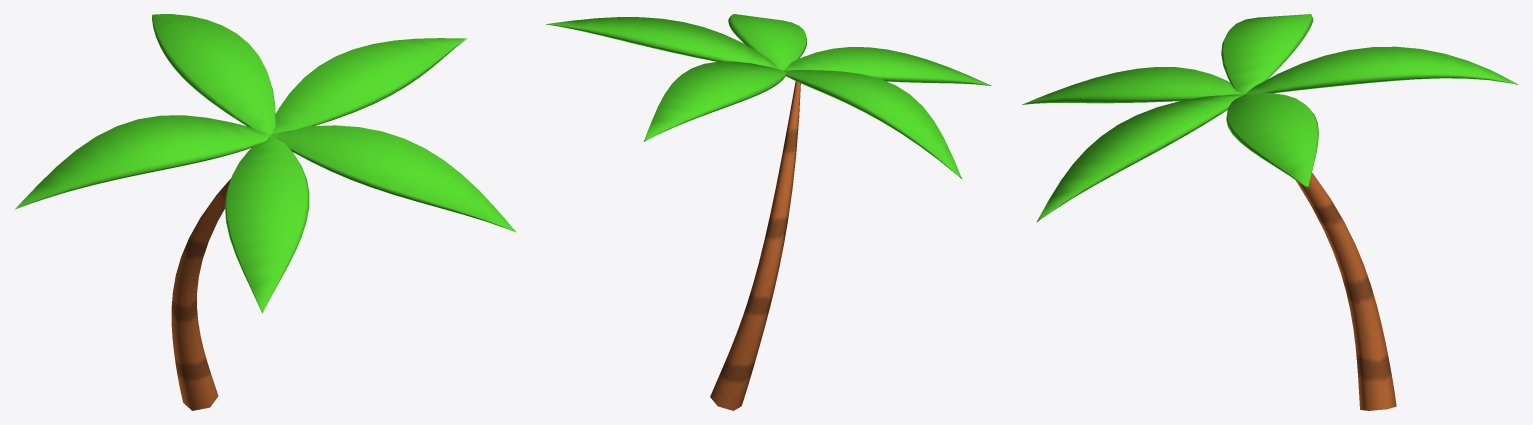
The model's file is level4tree.fbx.
3 views of the same model, side by side, from view 1: azimuth 30°, elevation 25°; view 2: azimuth 150°, elevation 25°; view 3: azimuth 270°, elevation 25° (orthographic). The views are drawn at different scales.
Parts seen in each view (by area): view 1: NurbsPath.005, NurbsPath.002, NurbsPath.004, NurbsPath.003, NurbsPath.001, PalmTree; view 2: PalmTree, NurbsPath.002, NurbsPath.001, NurbsPath.003, NurbsPath.004, NurbsPath.005; view 3: NurbsPath.005, PalmTree, NurbsPath.001, NurbsPath.003, NurbsPath.004, NurbsPath.002.
Boxes of the visible parts, bbox=[...] form: NurbsPath.005: bbox=[271, 125, 516, 232]; NurbsPath.002: bbox=[15, 115, 270, 209]; NurbsPath.004: bbox=[225, 135, 309, 313]; NurbsPath.003: bbox=[272, 38, 466, 134]; NurbsPath.001: bbox=[152, 14, 275, 134]; PalmTree: bbox=[171, 178, 230, 410]; PalmTree: bbox=[710, 81, 800, 410]; NurbsPath.002: bbox=[783, 70, 961, 178]; NurbsPath.001: bbox=[643, 61, 786, 141]; NurbsPath.003: bbox=[546, 17, 781, 70]; NurbsPath.004: bbox=[784, 47, 991, 85]; NurbsPath.005: bbox=[728, 14, 806, 70]; NurbsPath.005: bbox=[1036, 94, 1244, 222]; PalmTree: bbox=[1295, 173, 1396, 410]; NurbsPath.001: bbox=[1245, 46, 1518, 94]; NurbsPath.003: bbox=[1226, 93, 1318, 188]; NurbsPath.004: bbox=[1022, 67, 1243, 104]; NurbsPath.002: bbox=[1221, 14, 1313, 93].
Bounding box in the file's own units: 7.71 × 5.77 × 7.23.
1 material, 1 textured.
